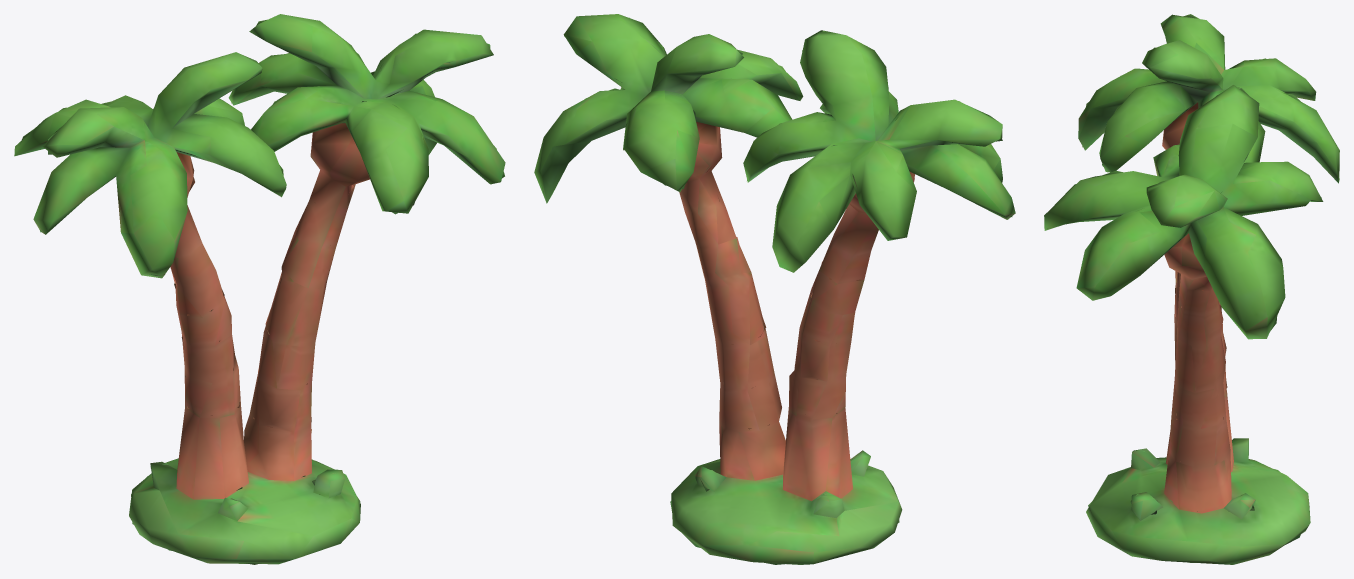
The model's file is x-tree-palm-pair.glb.
3 renders of one model, left to right at view 1: azimuth 30°, elevation 25°; view 2: azimuth 150°, elevation 25°; view 3: azimuth 270°, elevation 25°, orthographic. The views are drawn at different scales.
Parts seen in each view (by area): view 1: geometry_0; view 2: geometry_0; view 3: geometry_0.
Boxes of the visible parts, <box> form: geometry_0: <box>14,14,505,564</box>; geometry_0: <box>534,14,1015,564</box>; geometry_0: <box>1044,14,1339,564</box>.
Size of the model in its own units: 0.97 by 1 by 0.5847.
1 material, 1 textured.
